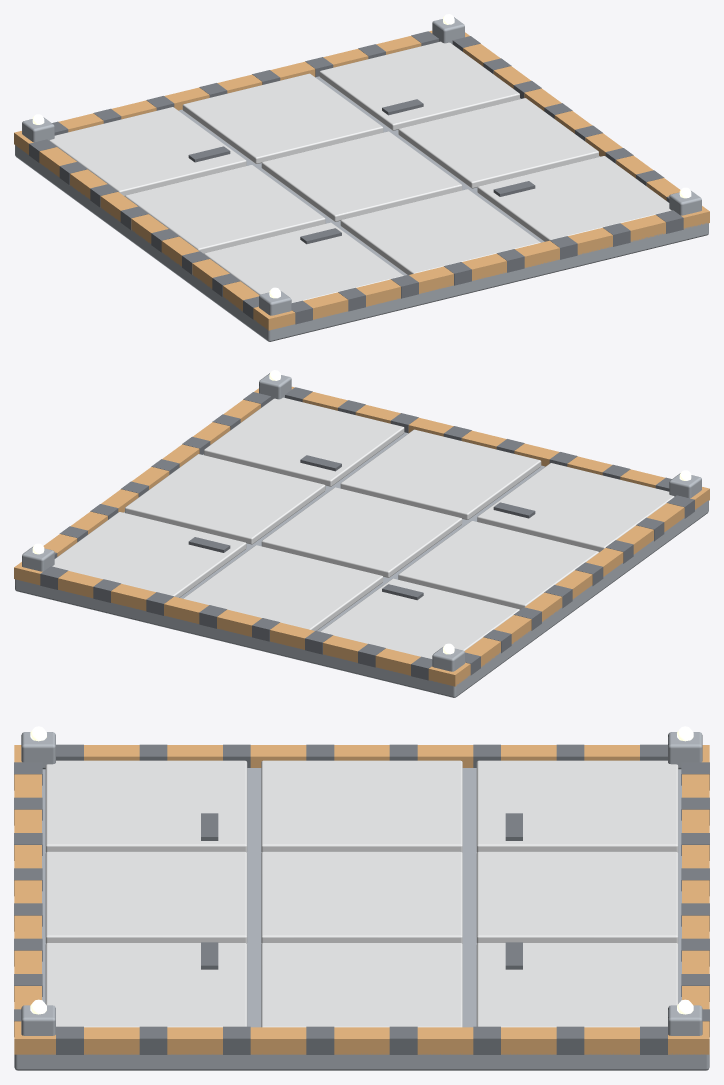
Rendered from pad.glb.
3 renders of one model, top to bottom at view 1: azimuth 30°, elevation 25°; view 2: azimuth 150°, elevation 25°; view 3: azimuth 270°, elevation 25°, orthographic. The views are drawn at different scales.
Parts seen in each view (by area): view 1: plates, edge, frame, marks; view 2: plates, edge, frame, marks; view 3: plates, edge, frame, marks, lamps.
Part boxes in pixels (x1,y1,x2,y2): plates: [49, 41, 671, 302]; edge: [14, 30, 709, 330]; frame: [15, 17, 708, 341]; marks: [29, 31, 683, 324]; plates: [52, 397, 674, 658]; edge: [14, 386, 709, 686]; frame: [15, 373, 708, 697]; marks: [40, 387, 694, 680]; plates: [45, 760, 678, 1027]; edge: [14, 745, 709, 1054]; frame: [14, 732, 709, 1070]; marks: [14, 744, 709, 1054]; lamps: [30, 726, 693, 1014].
Size of what is drawn, in the model's own units: 2 by 0.195 by 2.
